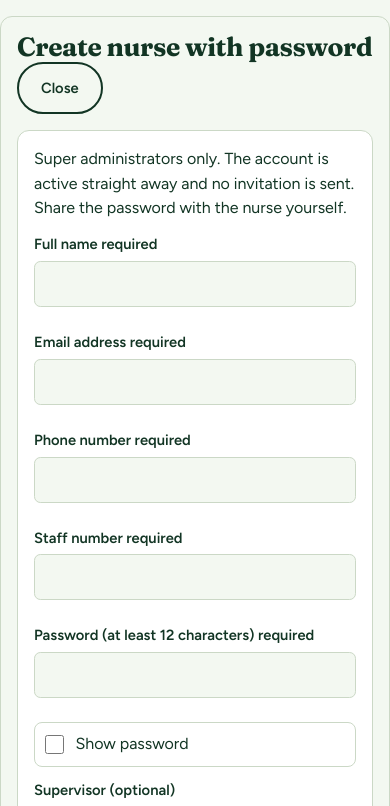
Test: CreateNurseSheet › shows the server error and does not close
Type "Grace Nurse" into the field labelled "Full name required" at point(195, 284), box [34,261,356,307]
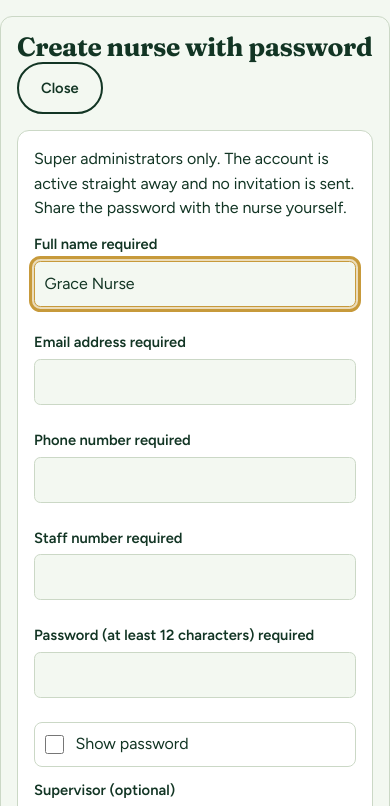
Type "grace@example.com" into the field labelled "Email address required" at point(195, 382), box [34,359,356,405]
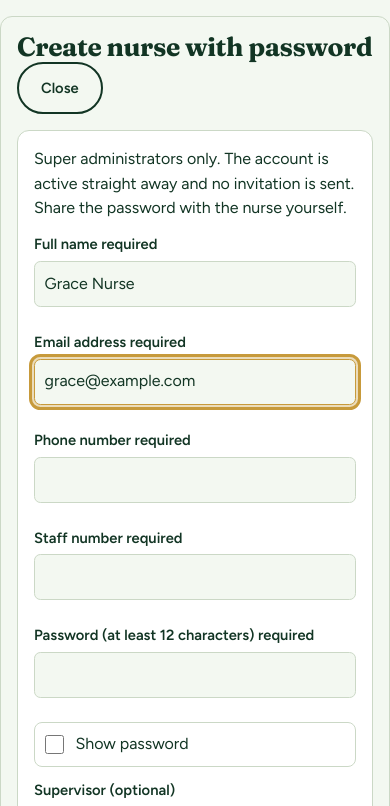
Type "0772000111" into the field labelled "Phone number required" at point(195, 480), box [34,457,356,503]
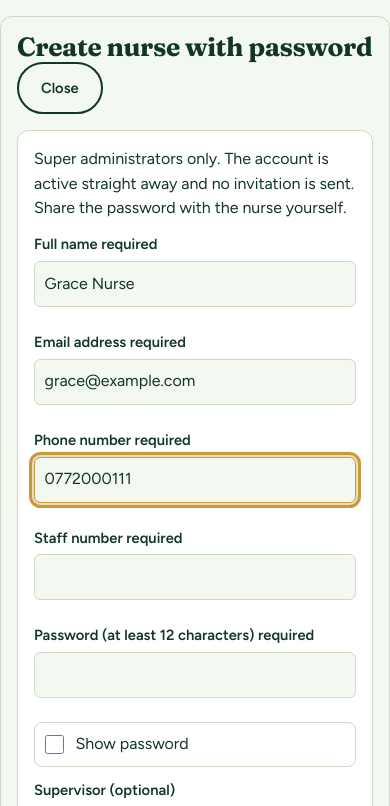
Type "N-014" into the field labelled "Staff number required" at point(195, 578), box [34,554,356,600]
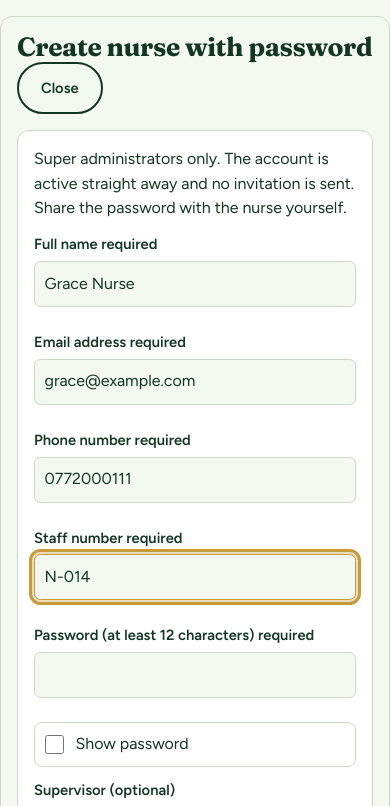
Type "a-long-test-password" into the password field labelled "Password (at least 12 characters) required" at point(195, 675), box [34,652,356,698]
(page scrolled)
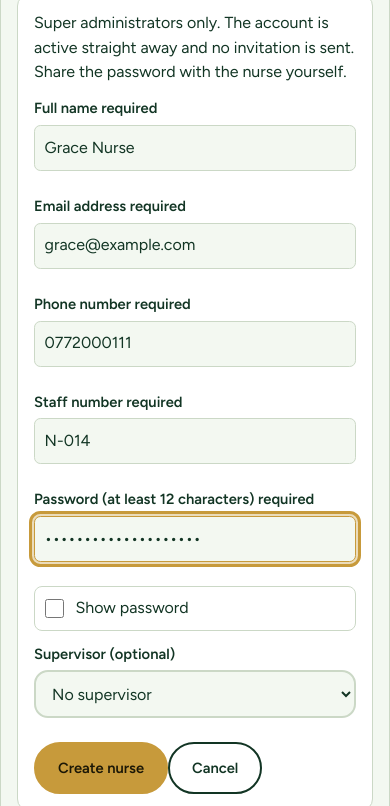
Click the button "Create nurse" at point(101, 768), box [34,742,168,794]
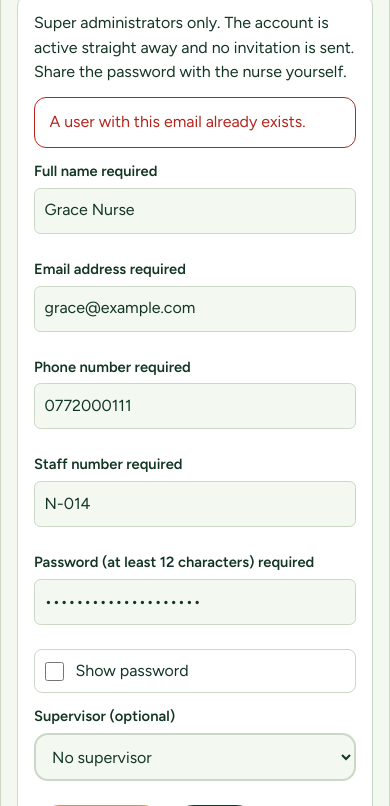
Check: the text "A user with this email already exists." is shown, box [34,97,356,148]
